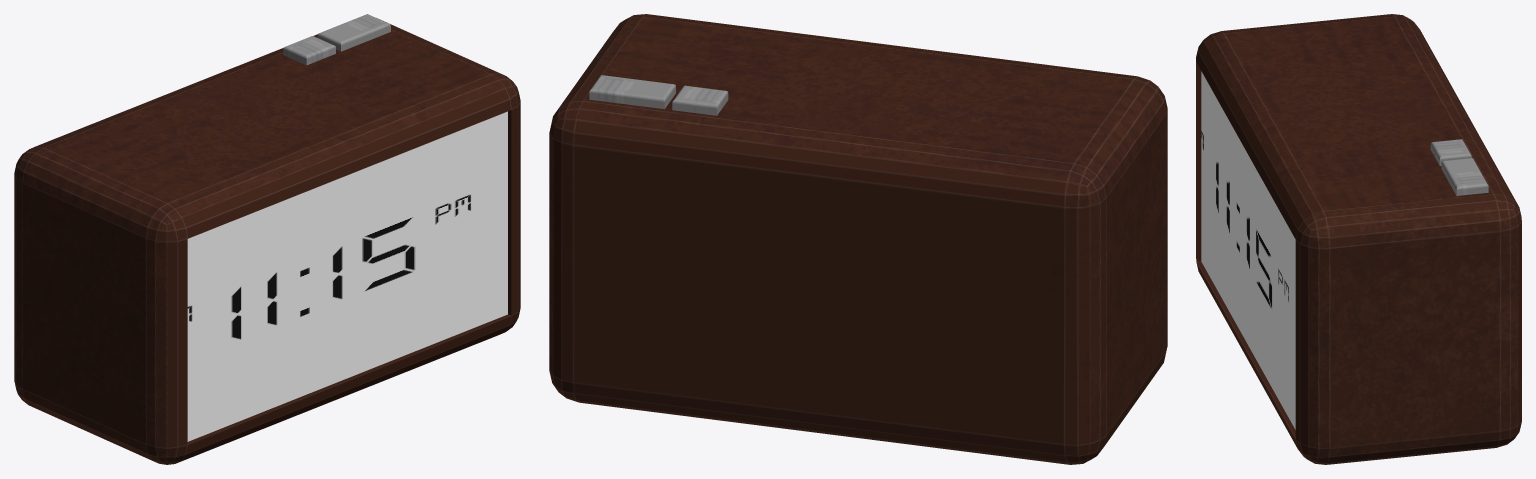
The model's file is reloj_de_mesa.obj.
3 views of the same model, side by side, from view 1: azimuth 30°, elevation 25°; view 2: azimuth 150°, elevation 25°; view 3: azimuth 270°, elevation 25° (orthographic). The views are drawn at different scales.
Visible parts, largest first — view 1: Cube.006, Cube.007, Cube.008; view 2: Cube.006, Cube.007, Cube.008; view 3: Cube.006, Cube.007, Cube.008.
Part boxes in pixels (<box>): Cube.006: <box>14,19,520,464</box>; Cube.007: <box>317,14,390,51</box>; Cube.008: <box>283,36,335,65</box>; Cube.006: <box>549,14,1167,464</box>; Cube.007: <box>589,75,675,109</box>; Cube.008: <box>672,85,728,115</box>; Cube.006: <box>1196,14,1521,464</box>; Cube.007: <box>1441,158,1488,195</box>; Cube.008: <box>1430,139,1471,165</box>.
Size of the model in its own units: 1.22 by 0.6744 by 0.7672.
4 materials, 3 textured.
